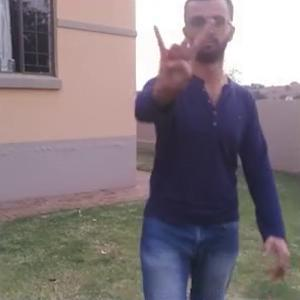takeoff-hand: (147, 19, 220, 94)
